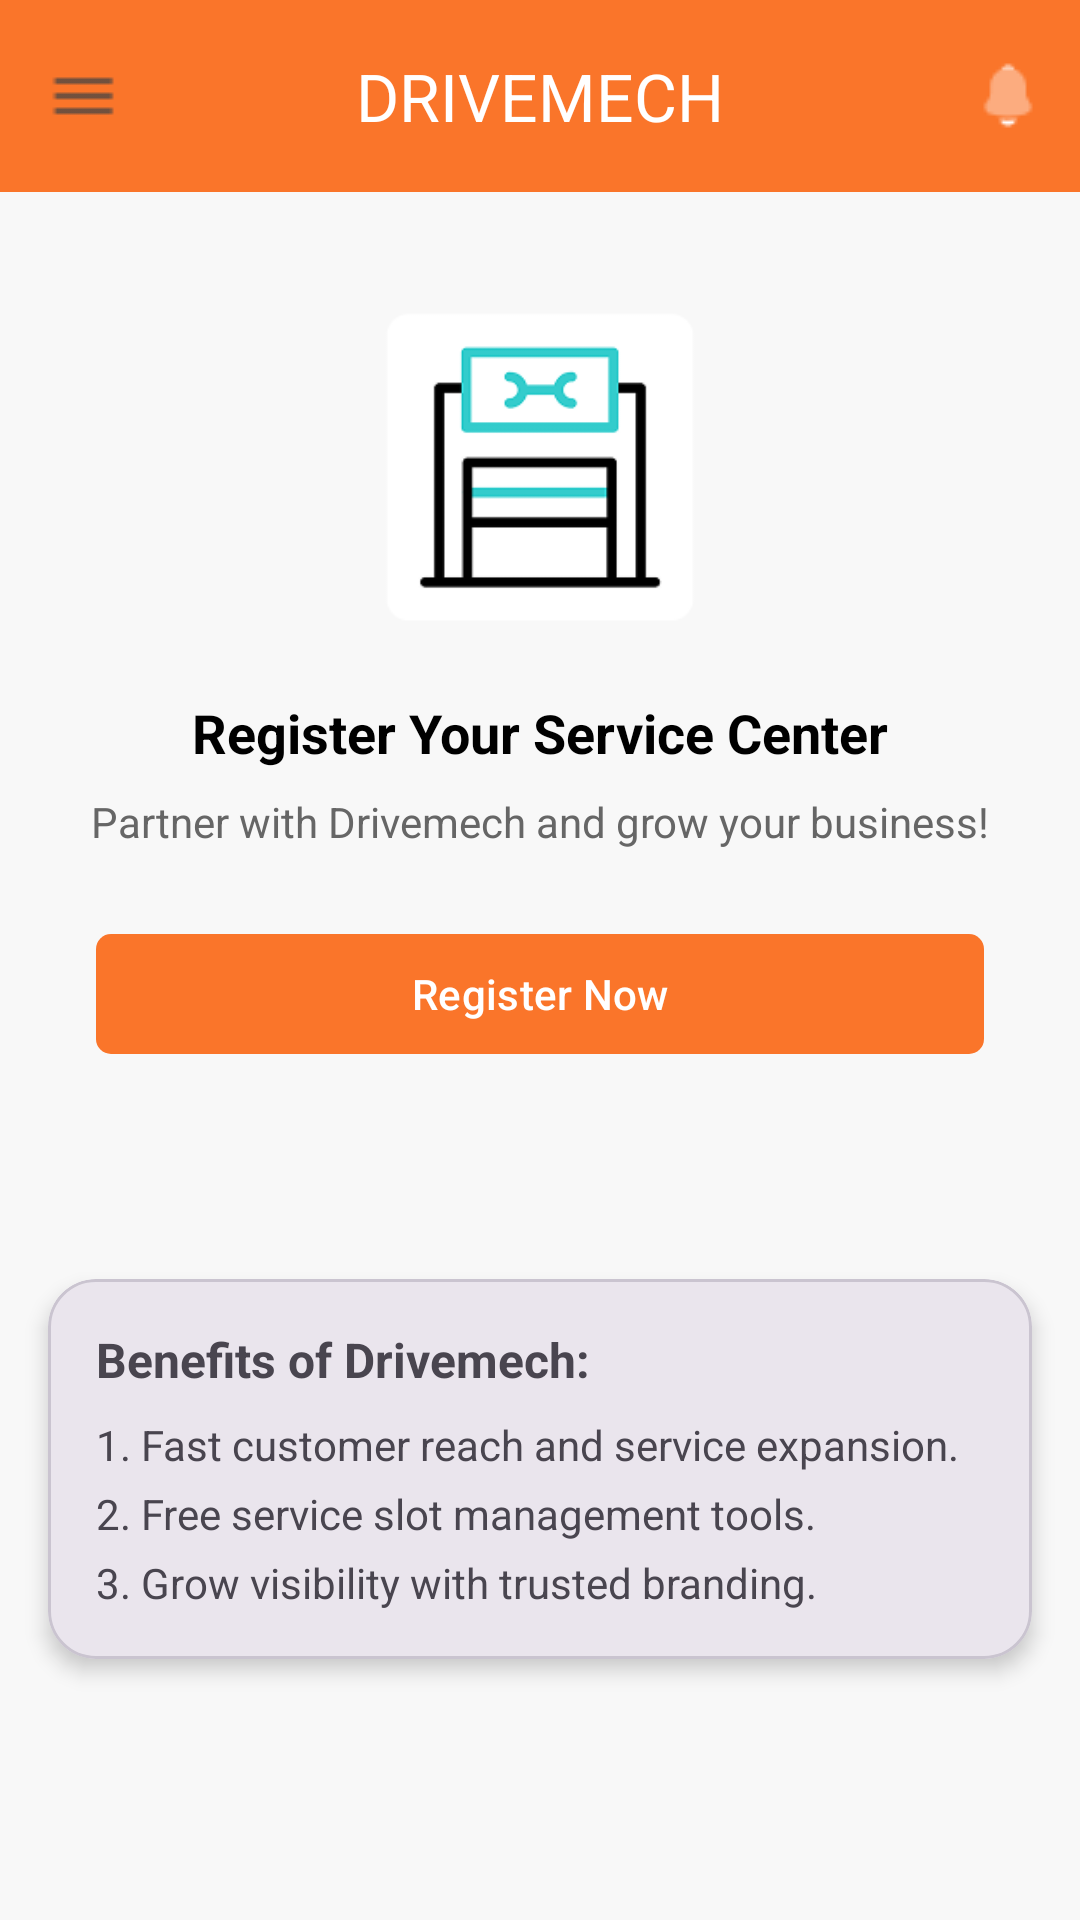

Icons on this 1080px x 1920px Android screen, each with its box as (x1, y1, x2, y2):
Garage Icon: (420, 346, 661, 588)
